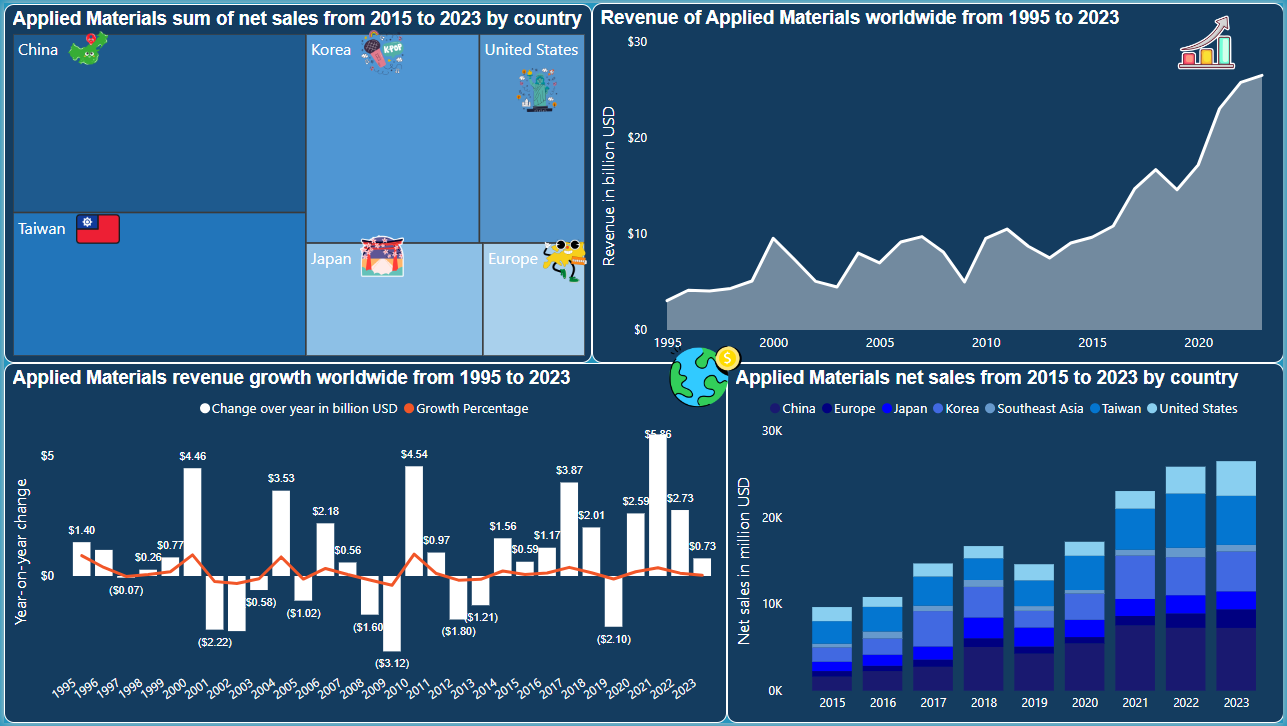

The dashboard page shown, as its layout file describes it:
{"tool":"powerbi","page":{"name":"Applied Materials","canvas":[1280,720],"ordinal":1},"visuals":[{"type":"lineStackedColumnComboChart","title":"Applied Materials revenue growth worldwide from 1995 to 2023","fields":{"Category":["Annual.Fiscal Year End.Variation.Date Hierarchy.Year"],"Y":["Sum(Annual.Change over year (in billions))"],"Y2":["Sum(Annual.Growth Percentage)"]},"box":[0,360.4,723.1,359.2],"z":0},{"type":"treemap","title":"Applied Materials sum of  net sales from 2015 to 2023 by country","fields":{"Values":["Sum(Data.Taiwan)","Sum(Data.Europe)","Sum(Data.Korea)","Sum(Data.China)","Sum(Data.United States)","Sum(Data.Japan)"]},"box":[0,1,588.2,359.3],"z":1000},{"type":"columnChart","title":"Applied Materials net sales from 2015 to 2023 by country","fields":{"Y":["Sum(Data.China)","Sum(Data.Europe)","Sum(Data.Japan)","Sum(Data.Korea)","Sum(Data.Southeast Asia)","Sum(Data.Taiwan)","Sum(Data.United States)"],"Category":["Data.Year"]},"box":[723.1,360.4,556.9,359.2],"z":2000},{"type":"areaChart","title":"Revenue of Applied Materials worldwide from 1995 to 2023","fields":{"Category":["Annual.Fiscal Year End.Variation.Date Hierarchy.Year","Annual.Fiscal Year End.Variation.Date Hierarchy.Quarter","Annual.Fiscal Year End.Variation.Date Hierarchy.Month","Annual.Fiscal Year End.Variation.Date Hierarchy.Day"],"Y":["Sum(Annual.Revenue (in billions))"]},"box":[588.2,0,691.8,360.3],"z":3000},{"type":"image","box":[658,330.2,87.2,87.2],"z":4000},{"type":"image","box":[1162.6,0,79.1,79.1],"z":5000},{"type":"image","box":[55.8,17.4,55.8,55.8],"z":6000},{"type":"image","box":[533.6,230.2,54.6,54.6],"z":7000},{"type":"image","box":[505.7,59.3,54.6,54.6],"z":8000},{"type":"image","box":[67.4,198.8,54.6,54.6],"z":9000},{"type":"image","box":[351.1,225.5,54.6,54.6],"z":10000},{"type":"image","box":[351.1,22.1,54.6,54.6],"z":11000}]}

Visuals, with their boxes in screenshot pixels (x1, y1, x2, y2), scaled from the page's 1280x720 canvas onto the 1287x726 screenshot:
"Applied Materials revenue growth worldwide from 1995 to 2023" lineStackedColumnComboChart: pyautogui.locateOnScreen(0, 363, 727, 725)
"Applied Materials sum of  net sales from 2015 to 2023 by country" treemap: pyautogui.locateOnScreen(0, 1, 591, 363)
"Applied Materials net sales from 2015 to 2023 by country" columnChart: pyautogui.locateOnScreen(727, 363, 1286, 725)
"Revenue of Applied Materials worldwide from 1995 to 2023" areaChart: pyautogui.locateOnScreen(591, 0, 1286, 363)
image: pyautogui.locateOnScreen(662, 333, 749, 421)
image: pyautogui.locateOnScreen(1169, 0, 1248, 80)
image: pyautogui.locateOnScreen(56, 18, 112, 74)
image: pyautogui.locateOnScreen(537, 232, 591, 287)
image: pyautogui.locateOnScreen(508, 60, 563, 115)
image: pyautogui.locateOnScreen(68, 200, 123, 256)
image: pyautogui.locateOnScreen(353, 227, 408, 282)
image: pyautogui.locateOnScreen(353, 22, 408, 77)
